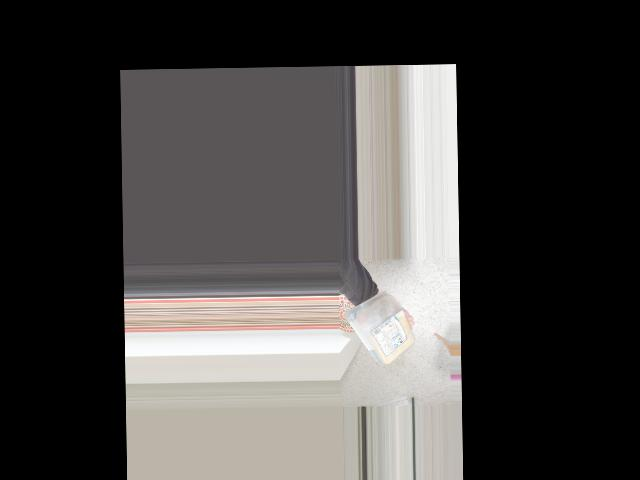cheese: (354, 297, 414, 363)
